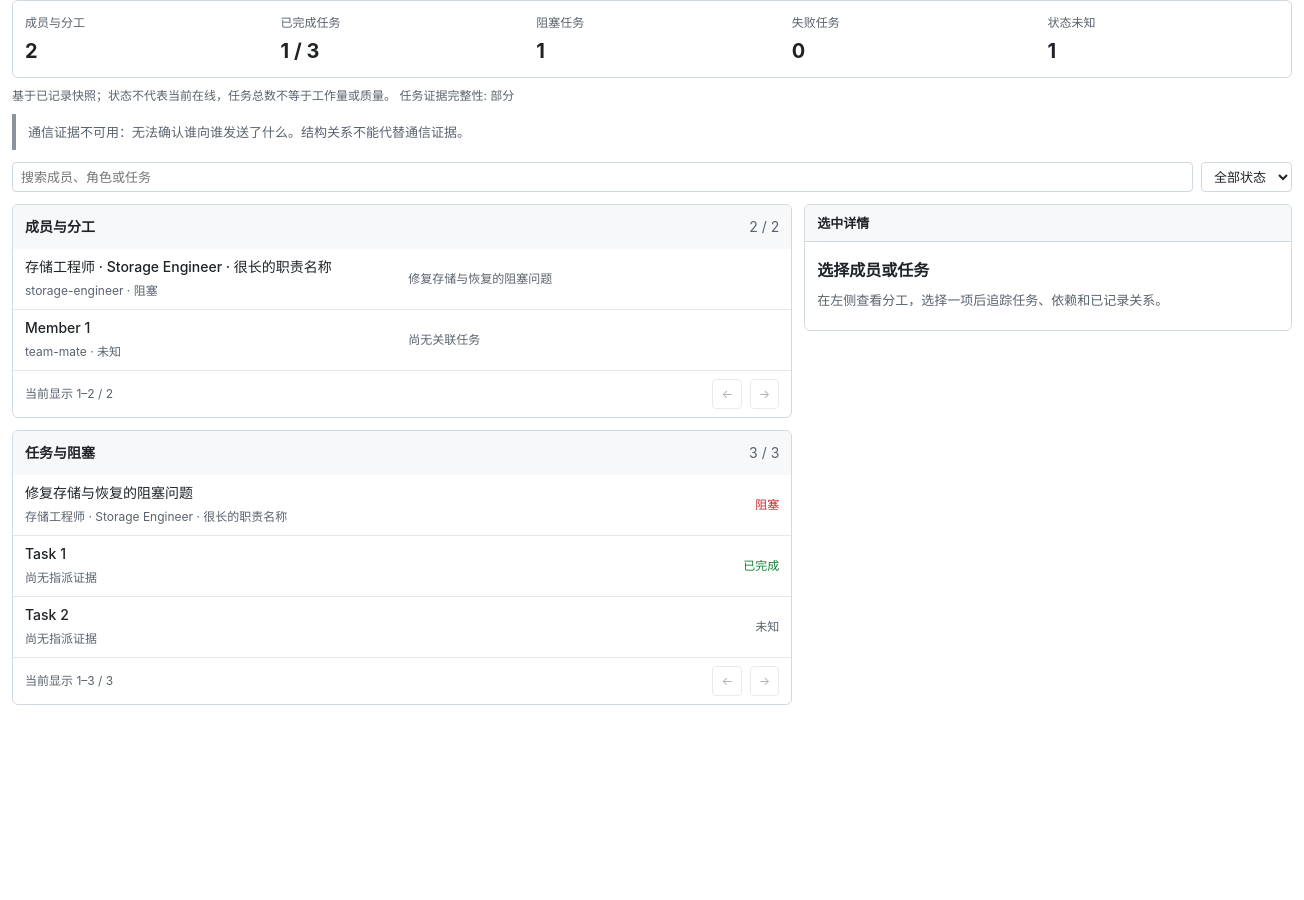
Test: Team workbench observed responsibility and evidence workflow › preserves relation direction, kind, historical boundary and exact evidence IDs
This screenshot has width=1304, height=900.
Click the button with class "tw-member" that starts with "存储工程师 · Storage Engineer · 很长的职责名称" at (178, 266), box left=13, top=249, right=791, bottom=310
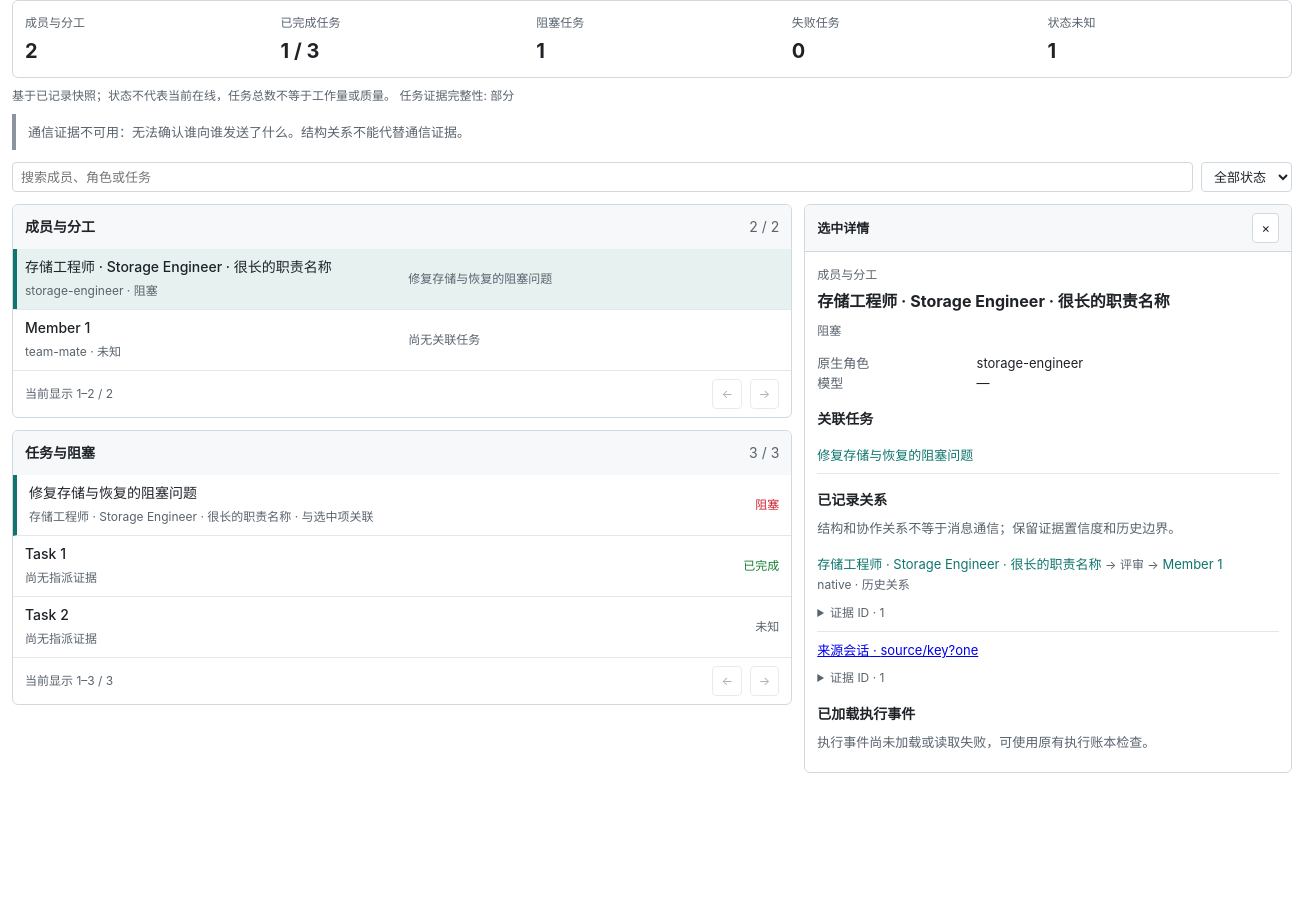
Expected: the list item that starts with "存储工程师 · Storage Engineer · 很长的职责名称" shows "→ 评审 →", left=817, top=546, right=1279, bottom=632
Expected: the list item that starts with "存储工程师 · Storage Engineer · 很长的职责名称" shows "历史关系", left=852, top=577, right=910, bottom=592
Expected: the list item that starts with "存储工程师 · Storage Engineer · 很长的职责名称" shows "native", left=817, top=577, right=852, bottom=592
Click the button "存储工程师 · Storage Engineer · 很长的职责名称 → 评审 → Member 1" at (1020, 564), box left=817, top=554, right=1222, bottom=575
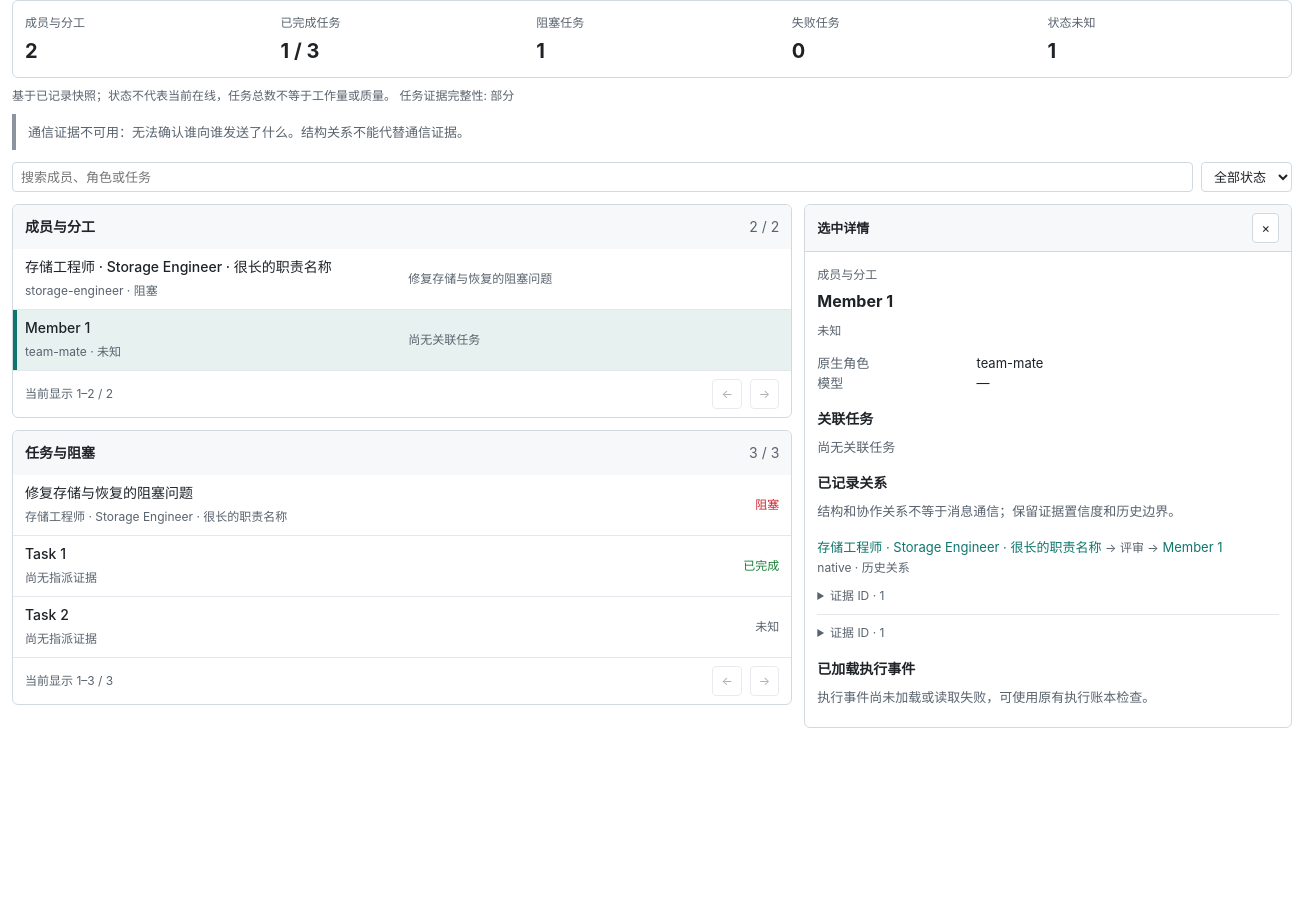
Expected: the text with class "tw-communication" shows "结构关系不能代替通信证据", left=28, top=124, right=470, bottom=140
Expected: the heading "Member 1" is shown, left=817, top=291, right=893, bottom=311
